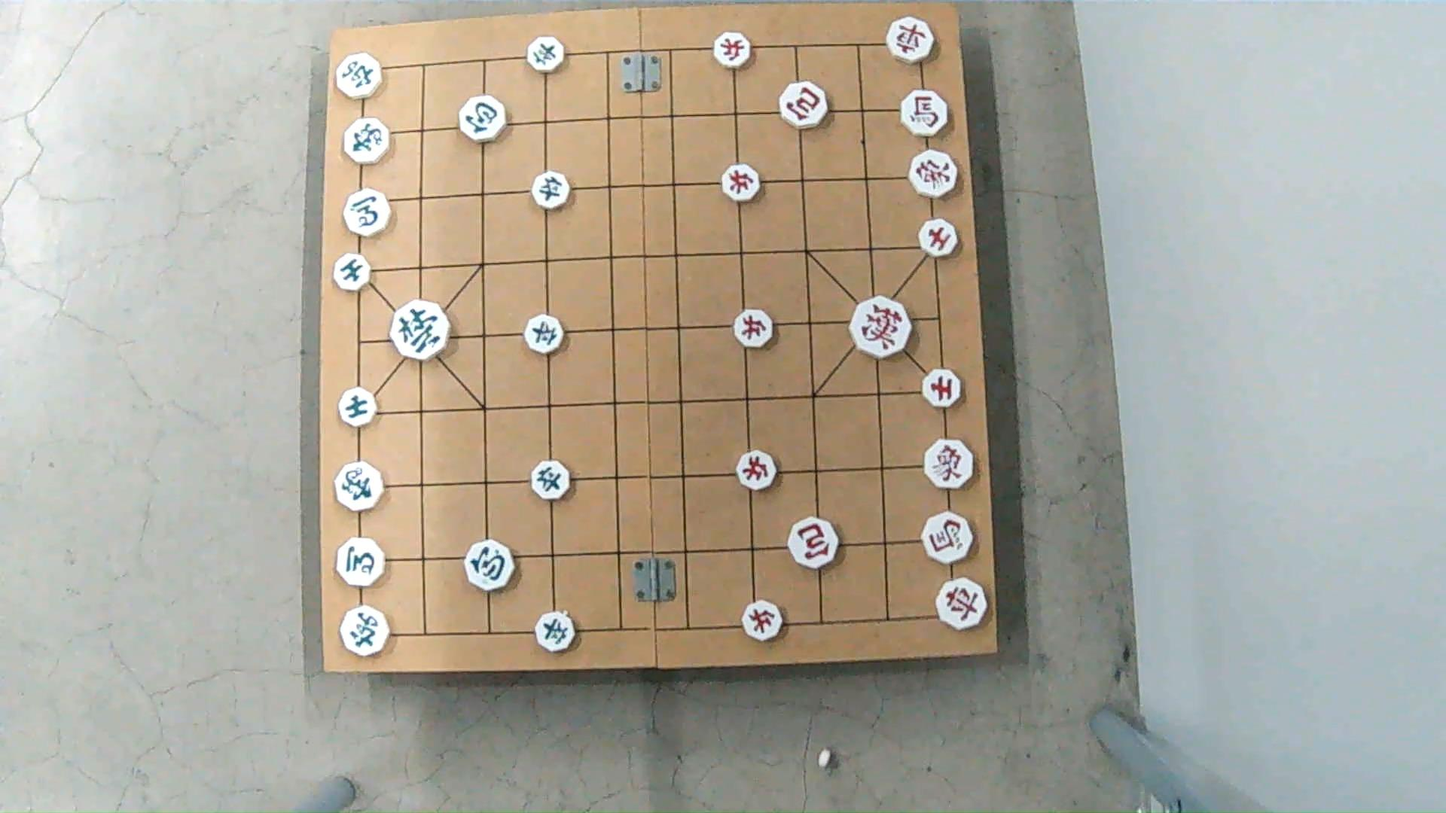cha_green: (338, 608, 391, 656), (338, 57, 388, 100)
cha_red: (937, 583, 993, 631), (885, 20, 938, 62)
jol_green: (533, 614, 578, 650), (529, 462, 573, 498), (526, 317, 568, 352), (531, 173, 574, 206), (525, 39, 567, 72)
jol_red: (740, 604, 785, 641), (731, 312, 775, 347), (736, 452, 778, 488), (720, 167, 763, 202), (711, 34, 752, 67)
ma_green: (338, 542, 390, 589), (340, 193, 393, 236)
ma_red: (919, 511, 976, 565), (898, 91, 950, 135)
po_green: (457, 91, 506, 142), (465, 542, 517, 590)
po_red: (788, 522, 840, 568), (780, 84, 831, 129)
sa_green: (338, 391, 380, 426), (331, 257, 373, 290)
sa_red: (917, 215, 957, 257), (922, 370, 964, 407)
sang_green: (335, 464, 388, 510), (343, 120, 394, 163)
sang_red: (926, 441, 981, 487), (908, 154, 959, 196)
wang_green: (389, 303, 449, 358)
wang_red: (850, 296, 917, 355)
